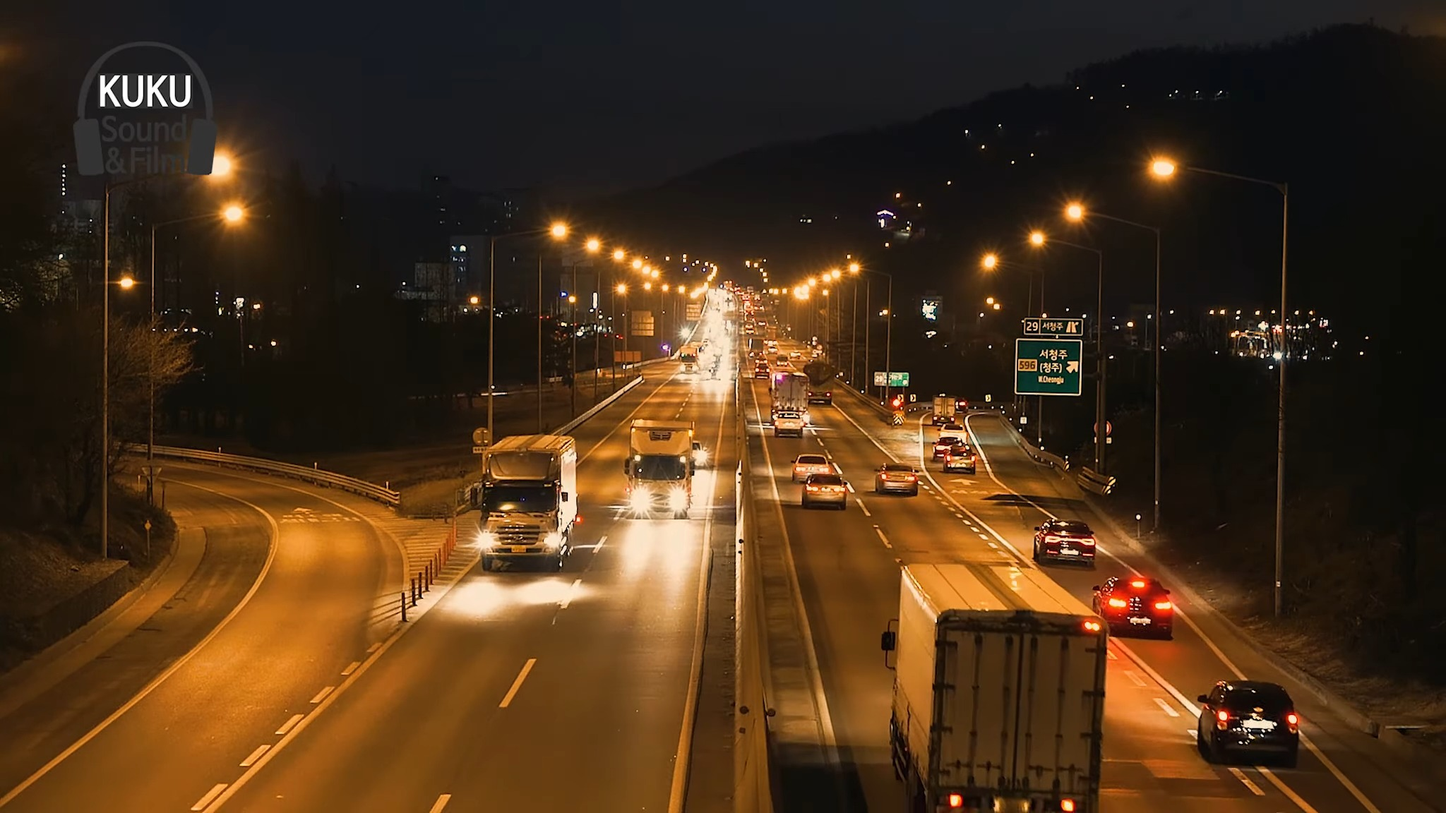car: (1197, 674, 1308, 764), (1097, 577, 1178, 636), (1033, 516, 1100, 567)
truck: (883, 553, 1109, 813), (477, 433, 568, 573), (622, 420, 695, 518)
